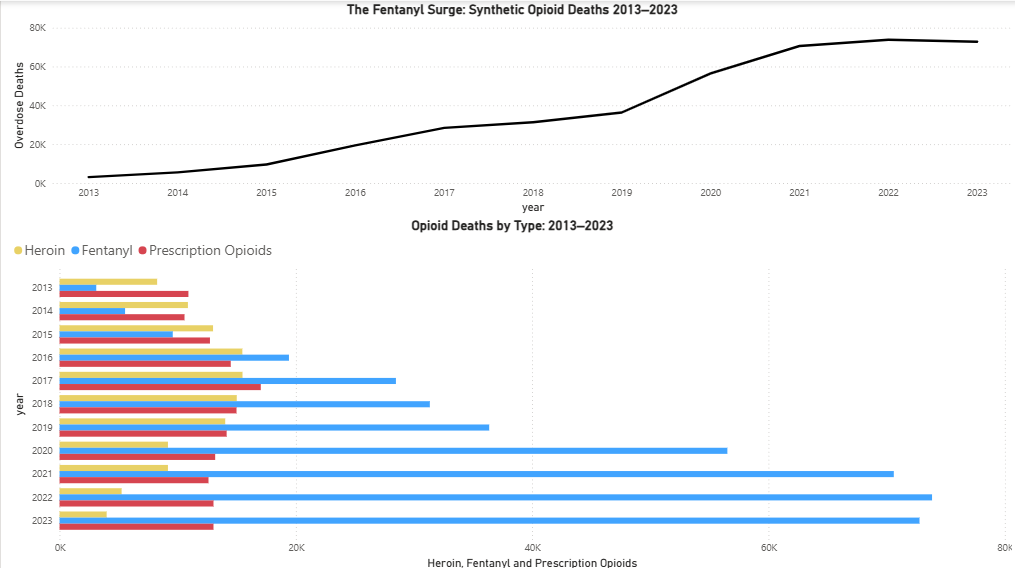

The dashboard page shown, as its layout file describes it:
{"tool":"powerbi","page":{"name":"Fentanyl Surge","canvas":[1280,720],"ordinal":4},"visuals":[{"type":"lineChart","title":"The Fentanyl Surge: Synthetic Opioid Deaths 2013–2023","fields":{"Category":["drug_type.year"],"Y":["Sum(drug_type.synthetic_opioids_fentanyl)"]},"box":[9.4,0,1269.9,272.1],"z":0},{"type":"clusteredBarChart","title":"Opioid Deaths by Type: 2013–2023","fields":{"Category":["drug_type.year"],"Y":["Sum(drug_type.heroin)","Sum(drug_type.synthetic_opioids_fentanyl)","Sum(drug_type.prescription_opioids)"]},"box":[9.4,272.1,1269.9,447.9],"z":1000}]}

Visuals, with their boxes in screenshot pixels (x1, y1, x2, y2), scaled from the page's 1280x720 canvas onto the 1015x568 screenshot:
"The Fentanyl Surge: Synthetic Opioid Deaths 2013–2023" lineChart: (left=7, top=0, right=1014, bottom=215)
"Opioid Deaths by Type: 2013–2023" clusteredBarChart: (left=7, top=215, right=1014, bottom=567)
